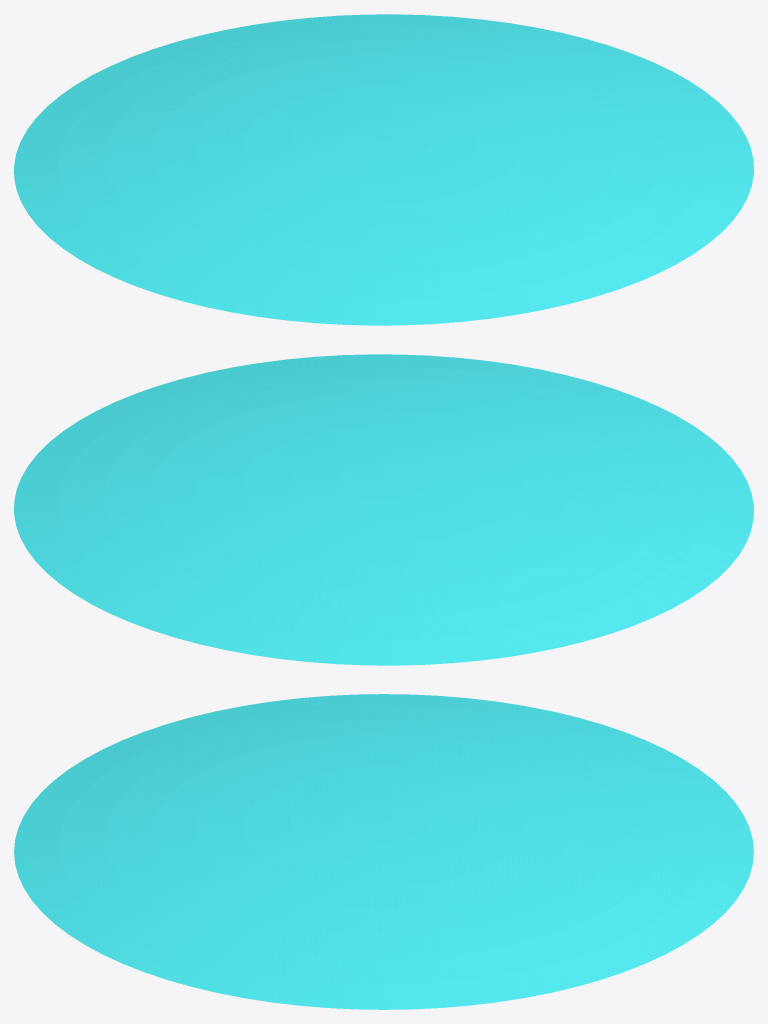
File: track_planet.fbx
The picture shows the model from 3 angles, top to bottom: view 1: azimuth 30°, elevation 25°; view 2: azimuth 150°, elevation 25°; view 3: azimuth 270°, elevation 25°; orthographic projection.
Visible parts, largest first — view 1: Duplicate; view 2: Duplicate; view 3: Duplicate.
Part boxes in pixels (x1,y1,x2,y2): Duplicate: (14,14,753,325); Duplicate: (14,354,753,665); Duplicate: (14,694,753,1009).
Bounding box in the file's own units: 10928 × 554 × 10821.
Materials: 2 (2 with a texture image).
